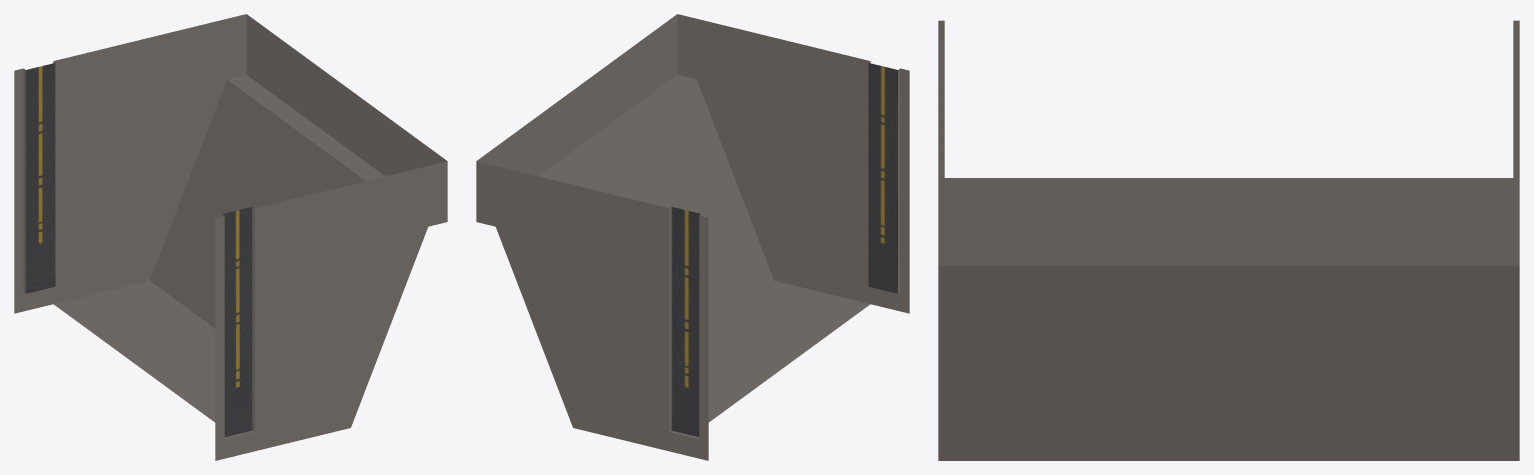
Rendered from sm_cb01_module15.glb.
3 views of the same model, side by side, from view 1: azimuth 30°, elevation 25°; view 2: azimuth 150°, elevation 25°; view 3: azimuth 270°, elevation 25° (orthographic). The views are drawn at different scales.
Visible parts, largest first — view 1: sm_cb01_module15; view 2: sm_cb01_module15; view 3: sm_cb01_module15.
Part boxes in pixels (<box>): sm_cb01_module15: <box>14,14,447,460</box>; sm_cb01_module15: <box>476,14,909,460</box>; sm_cb01_module15: <box>938,20,1519,460</box>.
Bounding box in the file's own units: 6 × 6 × 9.
1 material, 1 textured.
